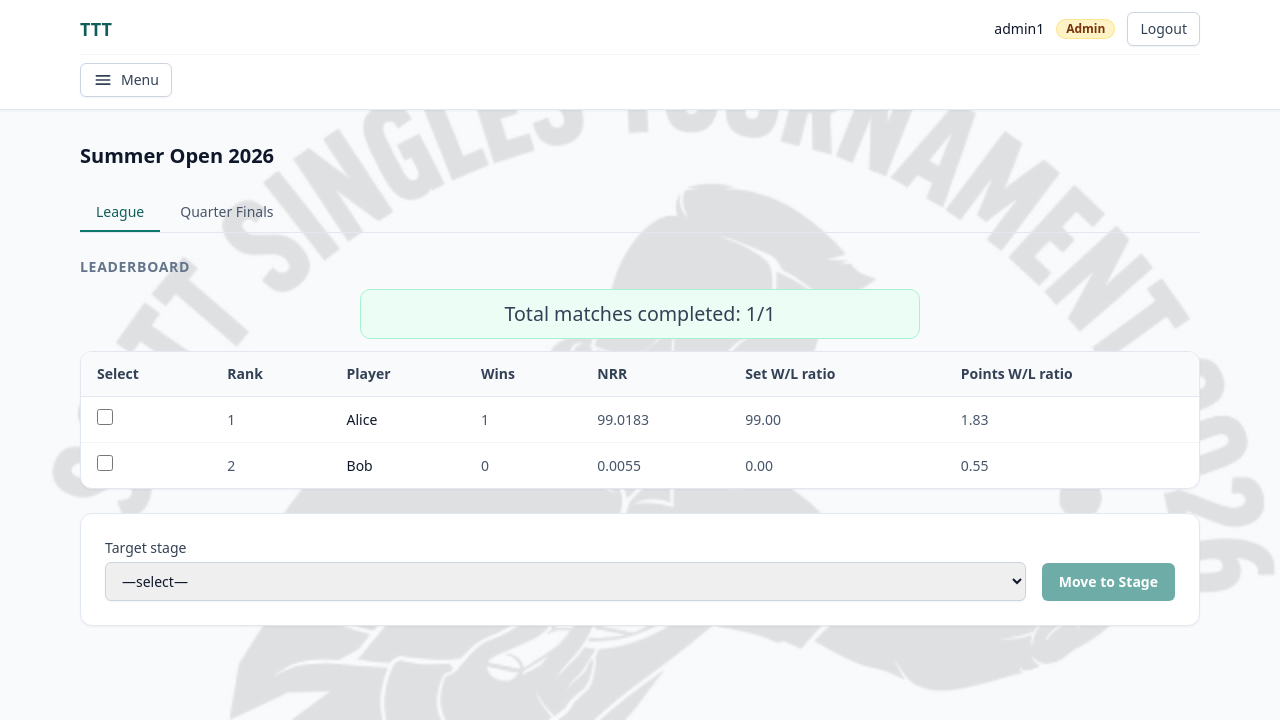
it: Move players action › moves selected players to the target stage after confirmation
Click the checkbox named "Select Alice": (105, 418) 97,410 -> 113,426
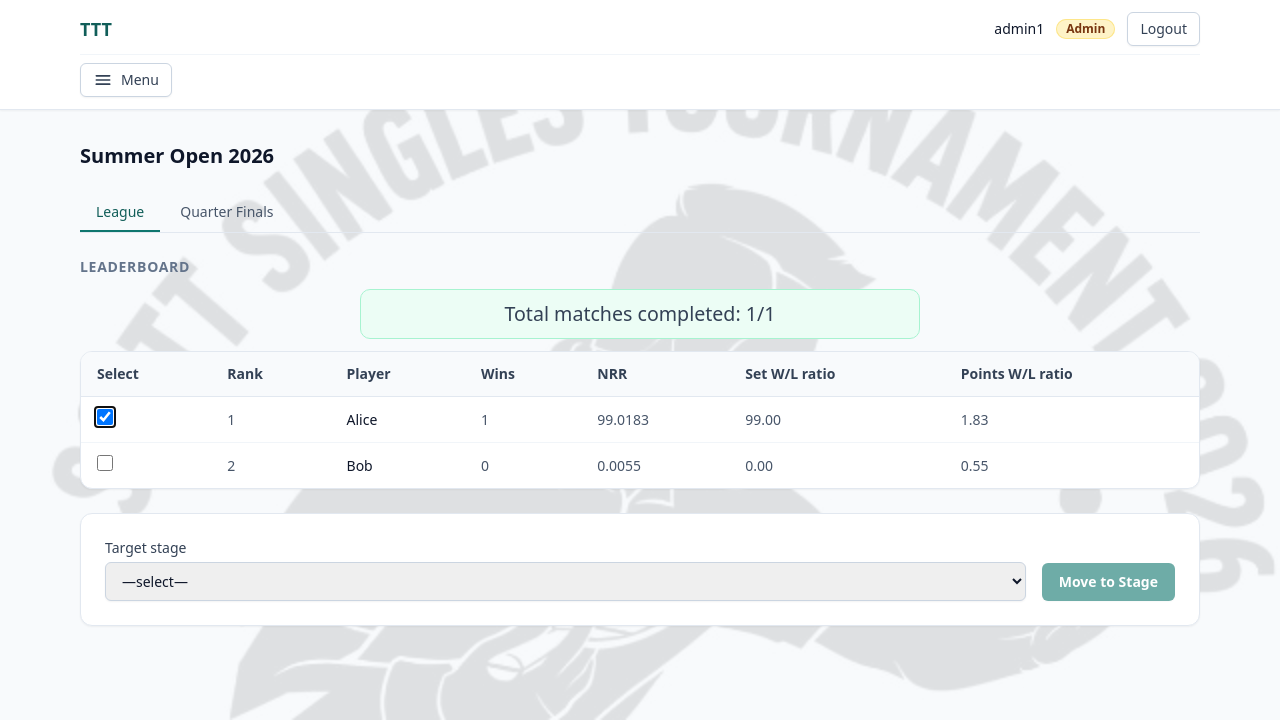
Select "Quarter Finals" in the dropdown labelled "Target stage": (565, 582) 105,562 -> 1026,602
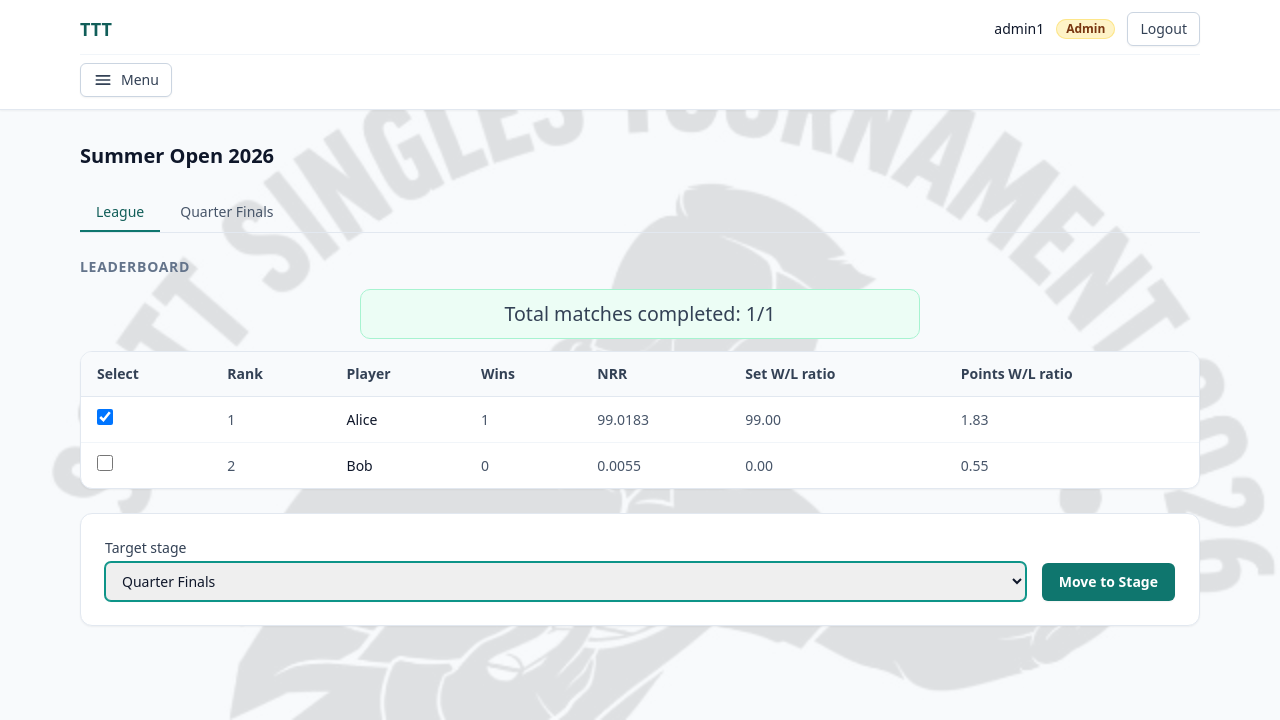
Click the button "Move to Stage": (1108, 582) 1042,564 -> 1175,602
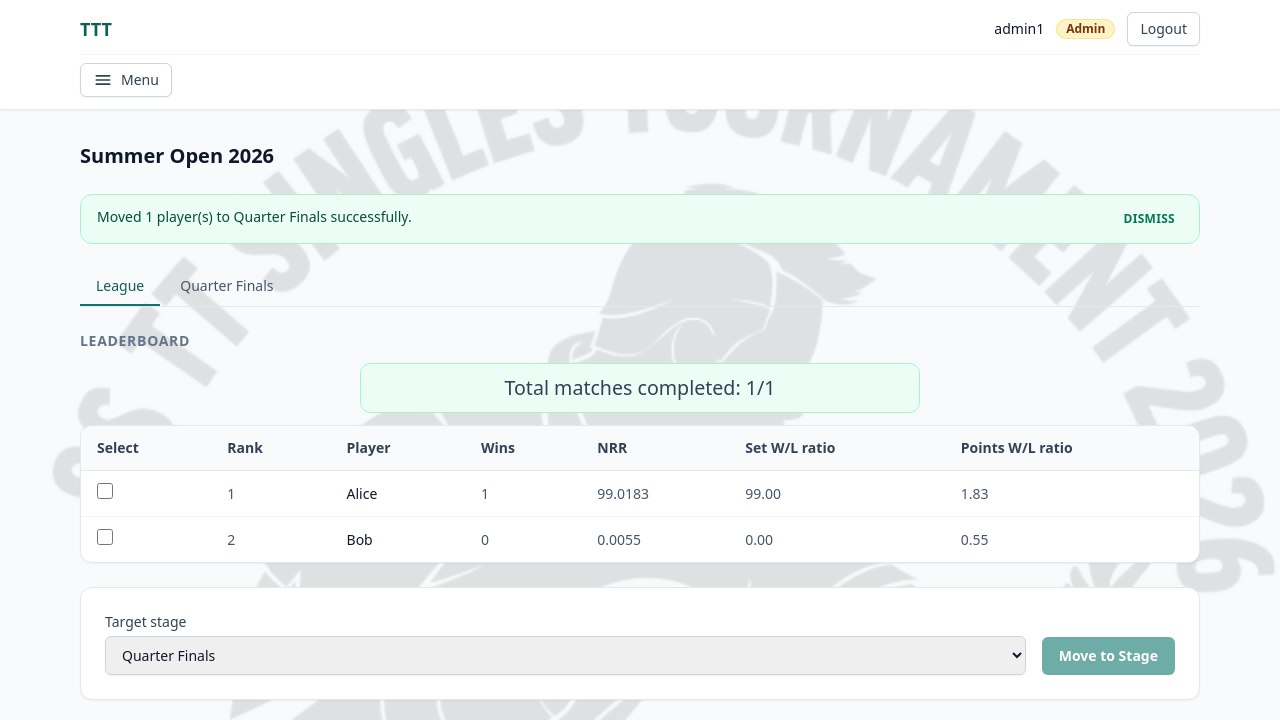
Now the checkbox named "Select Alice" is not checked, box 97,484 -> 113,500
Now the text "Moved 1 player(s) to Quarter Finals successfully." is shown, box 97,207 -> 412,227
